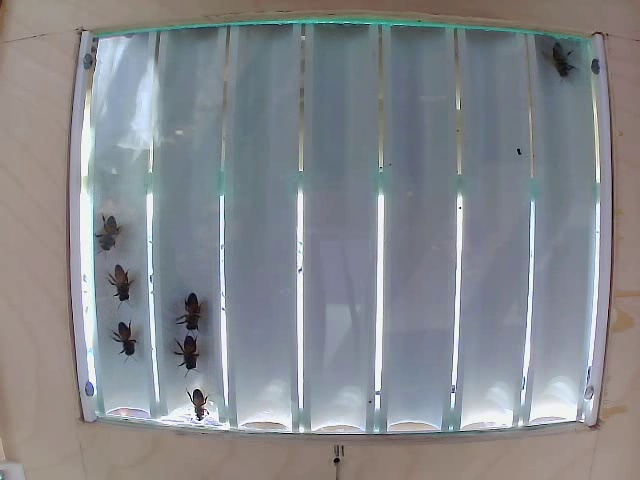bee: (181, 382, 242, 435), (83, 208, 128, 262), (100, 313, 146, 362), (549, 42, 579, 99), (181, 287, 216, 334), (98, 261, 133, 306), (168, 332, 211, 366)
